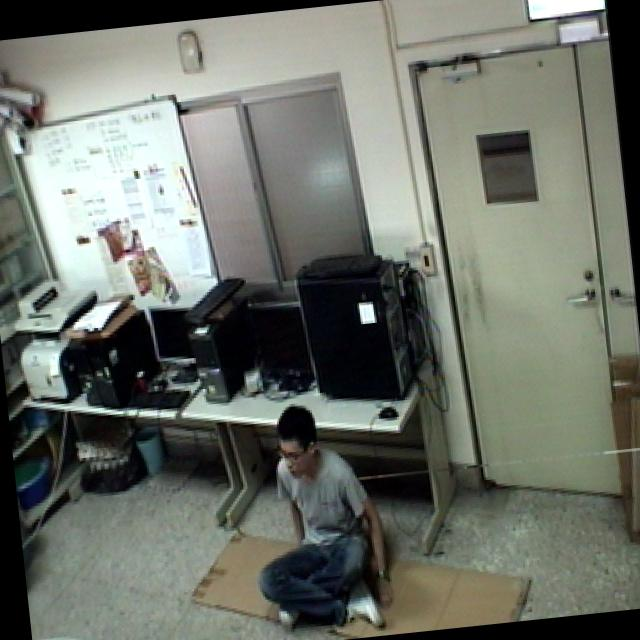sit: (229, 379, 406, 640)
